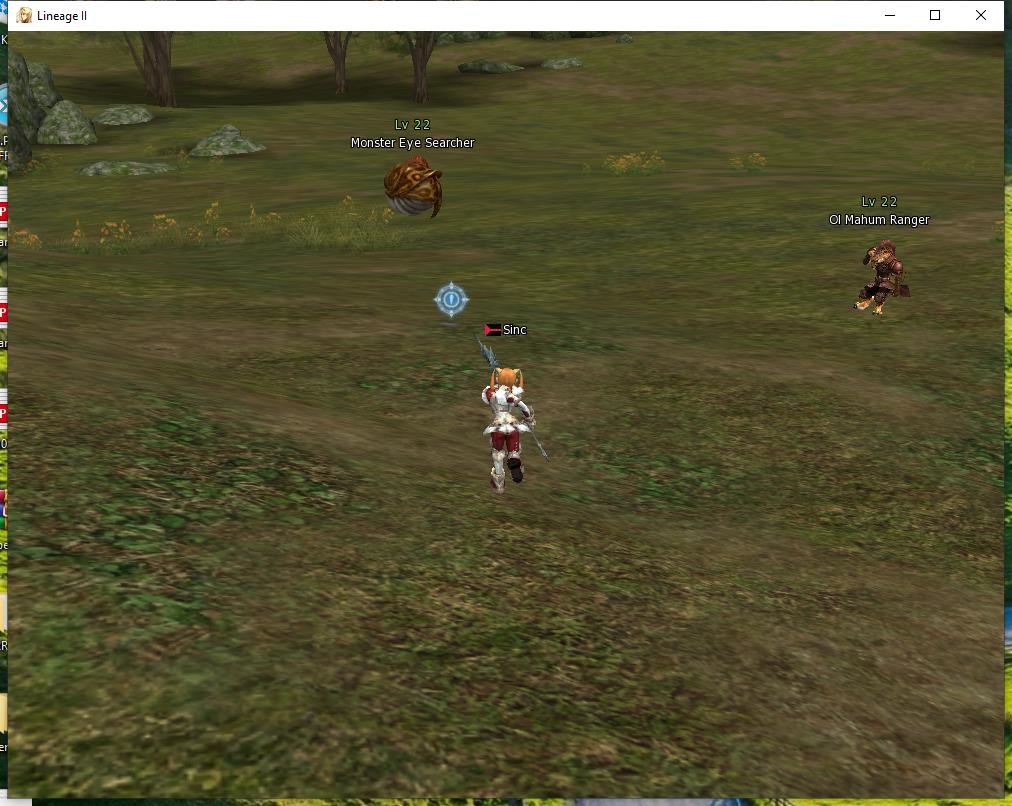monster: (339, 105, 478, 226), (821, 188, 939, 325)
